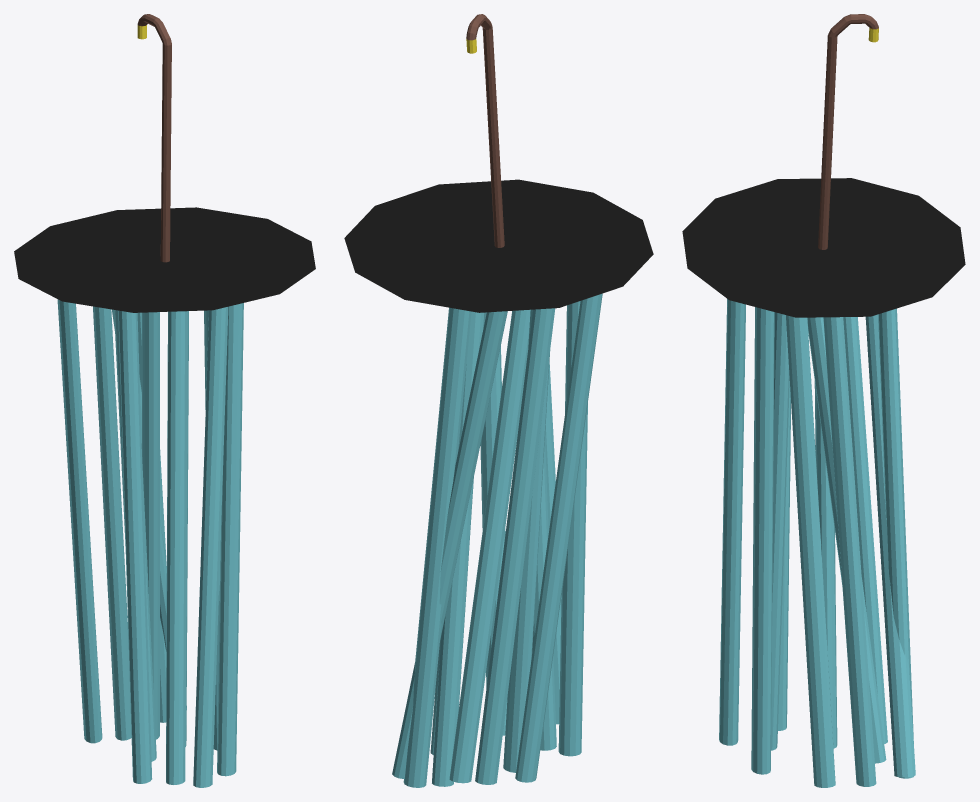
File: shower.obj
3 views of the same model, side by side, from view 1: azimuth 30°, elevation 25°; view 2: azimuth 150°, elevation 25°; view 3: azimuth 270°, elevation 25° (orthographic). The views are drawn at different scales.
Visible parts, largest first — view 1: group1170705211, group136286602, group864137024, group952554135, group1664770766, group428560629, group1787846205, group2087515020, group274477807, group166834409, group1379182036, group1103318838 (+1 smaller); view 2: group1170705211, group1787846205, group2087515020, group428560629, group166834409, group952554135, group866514687, group1379182036, group274477807, group1664770766, group864137024, group136286602; view 3: group1170705211, group1103318838, group1379182036, group1664770766, group136286602, group166834409, group866514687, group1787846205, group864137024, group2087515020, group274477807, group952554135.
Part boxes in pixels (x1,y1,x2,y2): group1170705211: (14,14,315,312); group136286602: (193,307,228,787); group864137024: (166,311,187,784); group952554135: (118,310,152,783); group1664770766: (217,303,243,776); group428560629: (57,299,102,743); group1787846205: (93,306,131,740); group2087515020: (142,312,159,739); group274477807: (114,310,156,761); group166834409: (137,312,166,722); group1379182036: (185,311,188,746); group1103318838: (204,310,220,750); group1170705211: (344,14,653,312); group1787846205: (475,308,555,784); group2087515020: (449,309,530,783); group428560629: (515,293,602,782); group166834409: (403,307,471,787); group952554135: (558,301,587,756); group866514687: (392,311,507,778); group1379182036: (432,311,484,786); group274477807: (503,309,550,772); group1664770766: (480,312,507,735); group864137024: (532,440,556,750); group136286602: (545,362,561,724); group1170705211: (682,14,965,317); group1103318838: (786,315,835,787); group1379182036: (823,317,876,786); group1664770766: (751,307,774,774); group136286602: (719,299,745,745); group166834409: (878,308,913,778); group866514687: (865,314,915,777); group1787846205: (843,317,887,743); group864137024: (771,312,789,750); group2087515020: (807,317,886,763); group274477807: (814,381,837,748); group952554135: (778,381,791,730).
Bounding box in the file's own units: 1.34 × 3.57 × 1.21.
